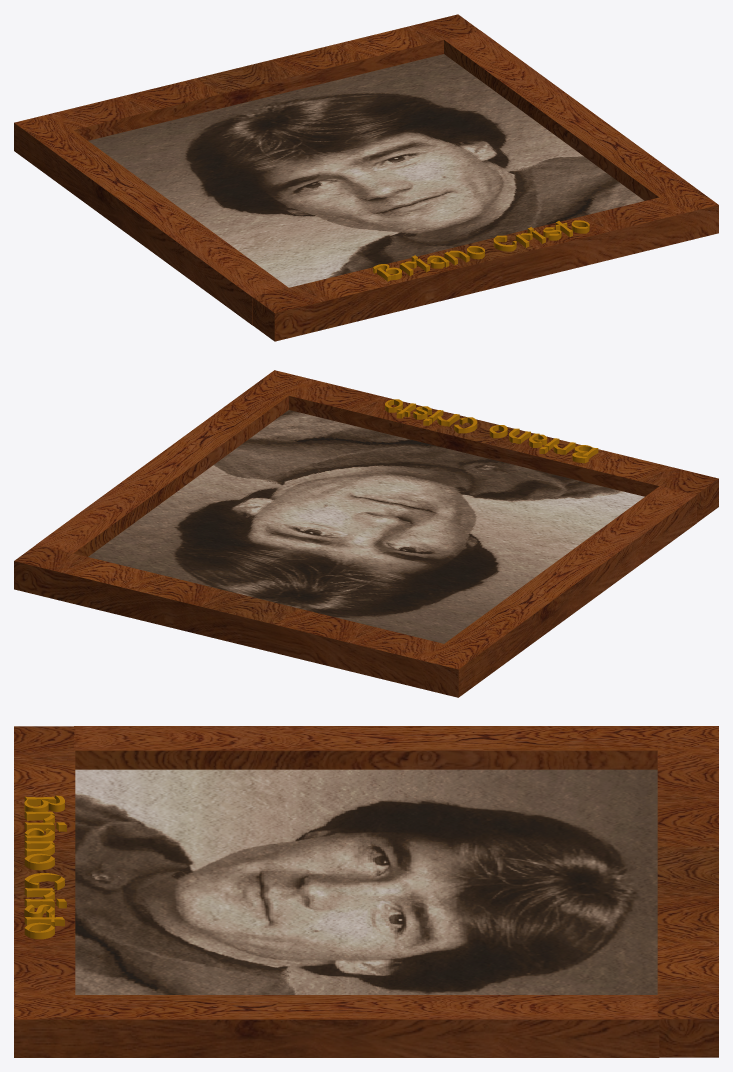
File: newmonkframe3.glb
The picture shows the model from 3 angles, top to bottom: view 1: azimuth 30°, elevation 25°; view 2: azimuth 150°, elevation 25°; view 3: azimuth 270°, elevation 25°; orthographic projection. The views are drawn at different scales.
Parts seen in each view (by area): view 1: Plane, Cube.001, Cube, William Dafilo; view 2: Plane, Cube, Cube.001, William Dafilo; view 3: Plane, Cube.001, Cube, William Dafilo.
Boxes of the visible parts, bbox=[...] form: Plane: bbox=[88, 54, 644, 287]; Cube.001: bbox=[252, 30, 718, 341]; Cube: bbox=[14, 14, 480, 325]; William Dafilo: bbox=[373, 220, 589, 281]; Plane: bbox=[88, 410, 644, 643]; Cube: bbox=[14, 486, 696, 697]; Cube.001: bbox=[36, 370, 718, 556]; William Dafilo: bbox=[385, 399, 598, 463]; Plane: bbox=[75, 769, 657, 994]; Cube.001: bbox=[14, 726, 659, 1057]; Cube: bbox=[74, 726, 718, 1057]; William Dafilo: bbox=[24, 795, 66, 939].
Size of the model in its own units: 0.6743 by 0.0482 by 0.6847.
Materials: 3 (2 with a texture image).
